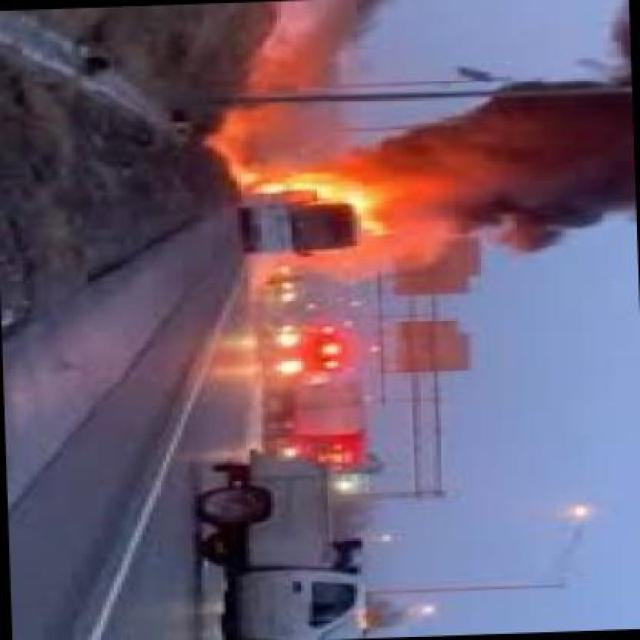Fire: (262, 160, 391, 258)
Smoke: (401, 63, 640, 287)
